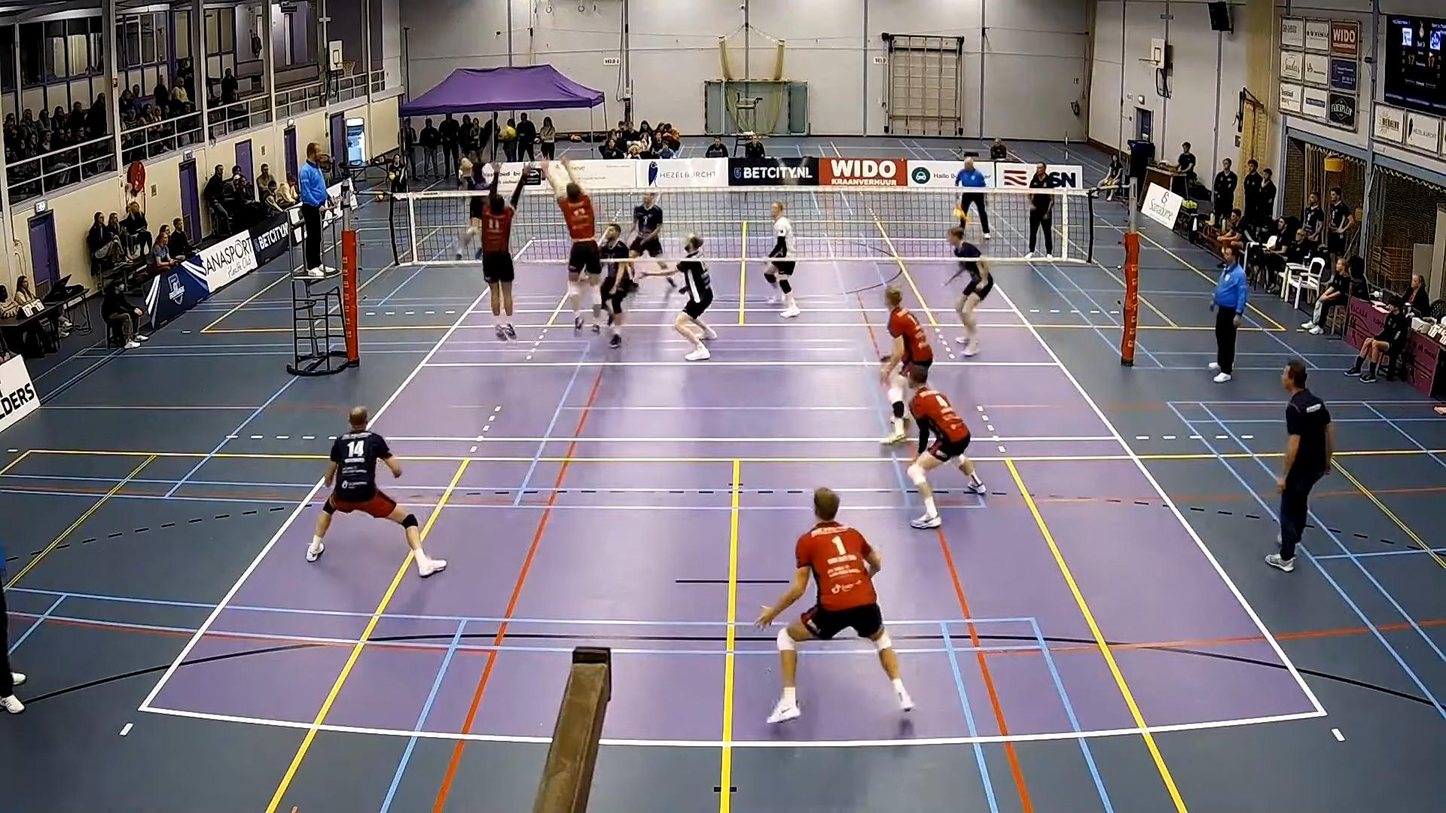Attack: (456, 153, 495, 265)
Block: (540, 153, 609, 339), (471, 166, 524, 346)
Player: (755, 488, 913, 723), (307, 406, 446, 576), (907, 367, 985, 528), (880, 286, 932, 444), (948, 227, 993, 356), (674, 233, 716, 361), (599, 223, 636, 348), (764, 202, 801, 317), (629, 192, 668, 271)
ball: (497, 122, 518, 140)
